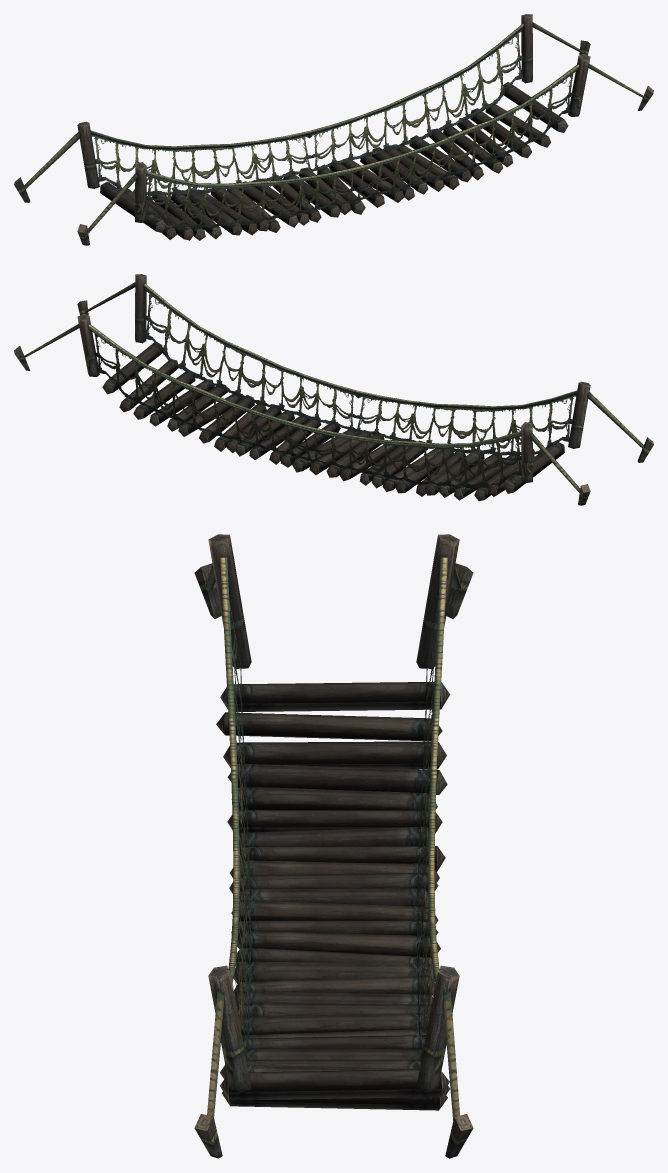
The model's file is cave_bridge_03.fbx.
The picture shows the model from 3 angles, top to bottom: view 1: azimuth 30°, elevation 25°; view 2: azimuth 150°, elevation 25°; view 3: azimuth 270°, elevation 25°; orthographic projection. The views are drawn at different scales.
Parts seen in each view (by area): view 1: cave_tileset/bridge01_shadow; view 2: cave_tileset/bridge01_shadow; view 3: cave_tileset/bridge01_shadow.
Part boxes in pixels (<box>): cave_tileset/bridge01_shadow: <box>14,14,653,245</box>; cave_tileset/bridge01_shadow: <box>14,274,653,505</box>; cave_tileset/bridge01_shadow: <box>194,534,473,1158</box>.
Size of the model in its own units: 19.51 by 3.53 by 4.09.
